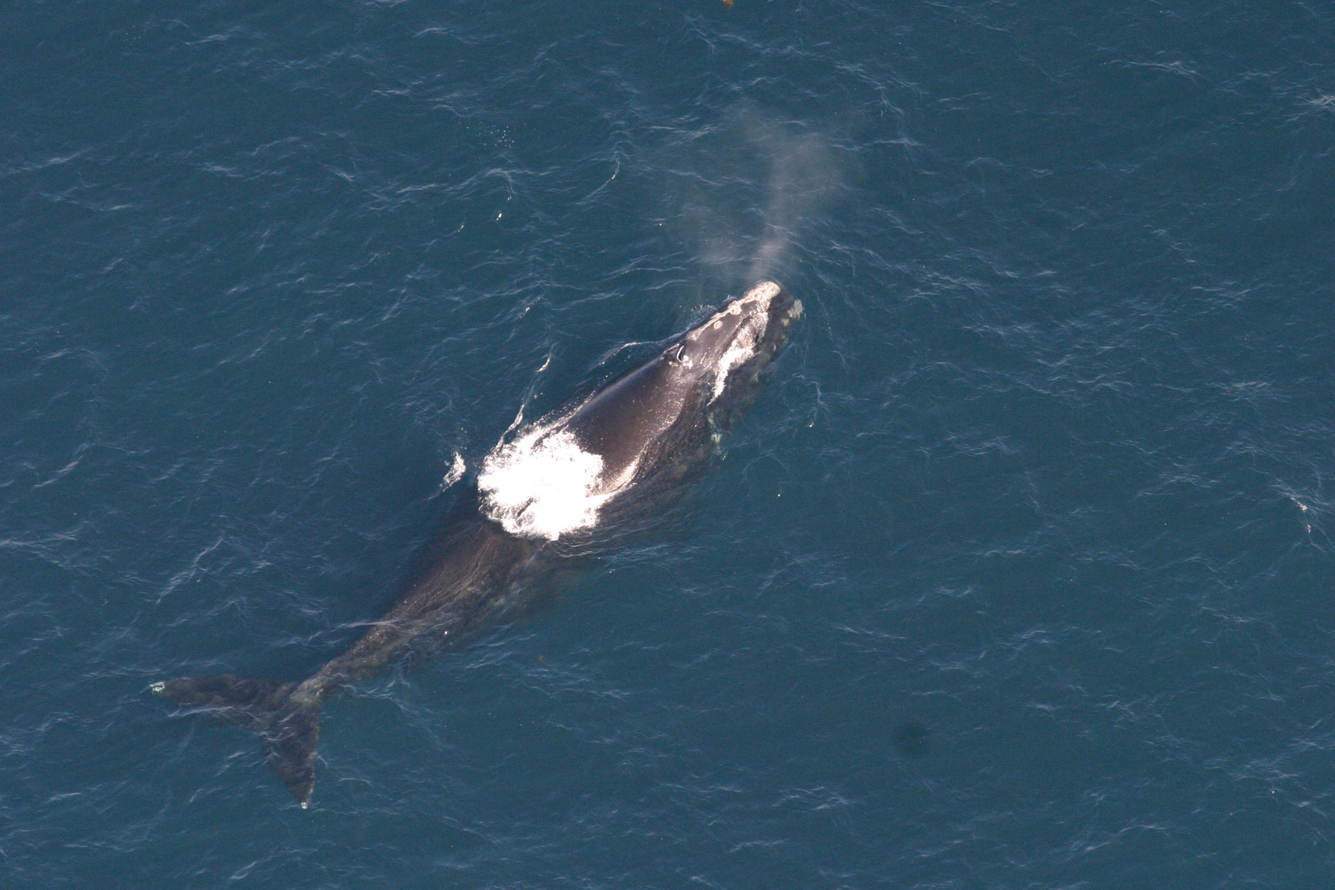whale: (143, 268, 811, 819)
